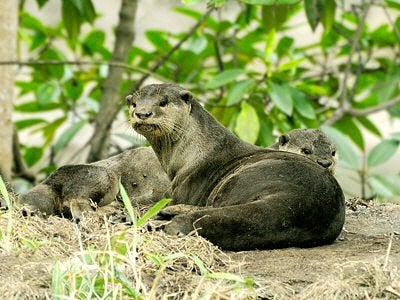otter: (124, 80, 347, 255)
